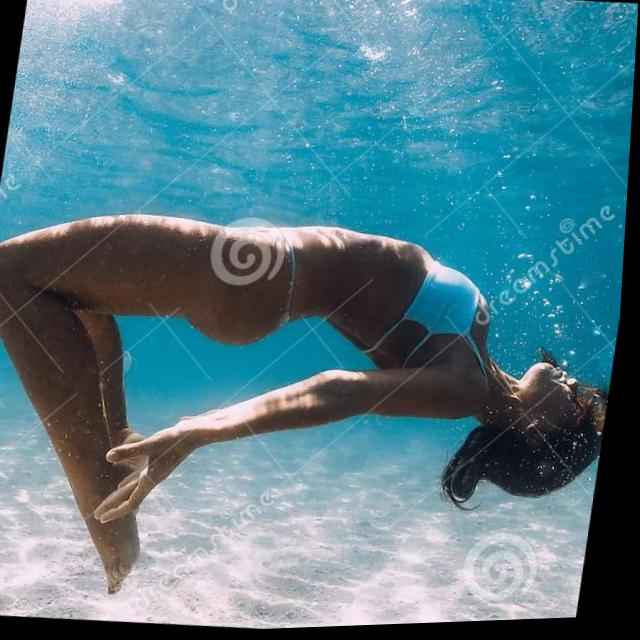human: (0, 100, 634, 640)
